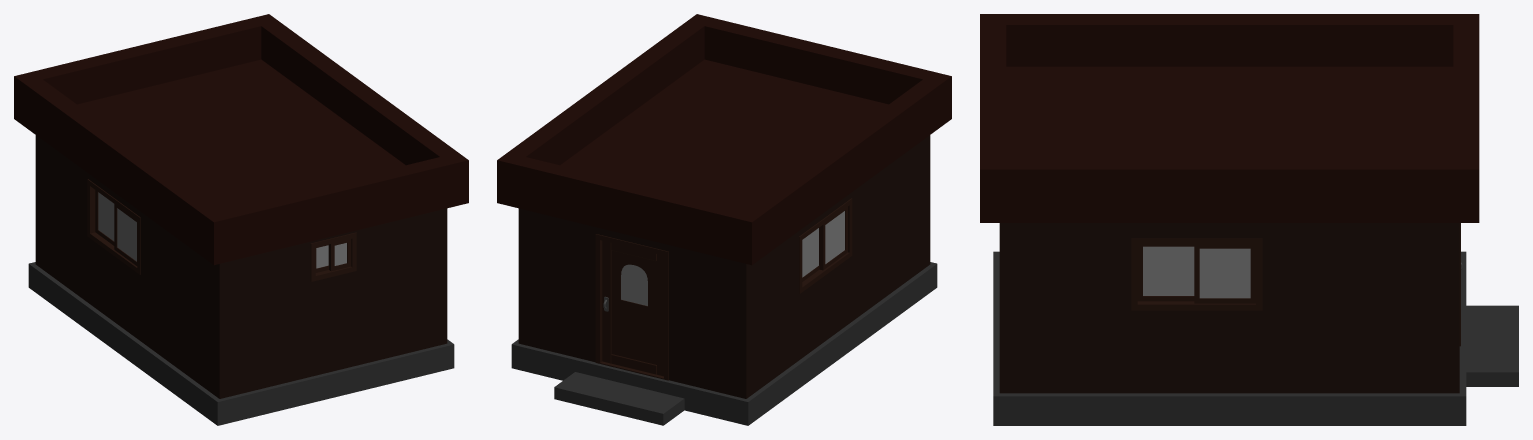
3 views of the same model, side by side, from view 1: azimuth 30°, elevation 25°; view 2: azimuth 150°, elevation 25°; view 3: azimuth 270°, elevation 25° (orthographic). The views are drawn at different scales.
Parts seen in each view (by area): view 1: h-004_02, h-004_02_win_01_frame_001, h-004_02_win_01_L_001, h-004_02_win_02_frame_001, h-004_02_win_01_R_001, h-004_02_win_02_L_001; view 2: h-004_02, h-004_02_door_001, h-004_02_door_frame_001, h-004_02_win_01_L_001, h-004_02_win_01_frame_001, h-004_02_win_01_R_001; view 3: h-004_02, h-004_02_win_01_L_002, h-004_02_win_01_R_002, h-004_02_win_01_frame_002.
Boxes of the visible parts, box(x1,y1,x2,y2) form: h-004_02: box(14, 14, 468, 425); h-004_02_win_01_frame_001: box(87, 179, 140, 274); h-004_02_win_01_L_001: box(114, 204, 137, 265); h-004_02_win_02_frame_001: box(310, 232, 356, 281); h-004_02_win_01_R_001: box(95, 190, 114, 245); h-004_02_win_02_L_001: box(329, 239, 351, 271); h-004_02: box(497, 14, 951, 425); h-004_02_door_001: box(602, 240, 663, 376); h-004_02_door_frame_001: box(595, 234, 668, 380); h-004_02_win_01_L_001: box(819, 207, 847, 270); h-004_02_win_01_frame_001: box(799, 198, 852, 293); h-004_02_win_01_R_001: box(802, 227, 819, 281); h-004_02: box(980, 14, 1518, 425); h-004_02_win_01_L_002: box(1194, 245, 1255, 303); h-004_02_win_01_R_002: box(1137, 245, 1194, 301); h-004_02_win_01_frame_002: box(1131, 238, 1262, 310).
Size of the model in its own units: 56 by 44 by 82.
